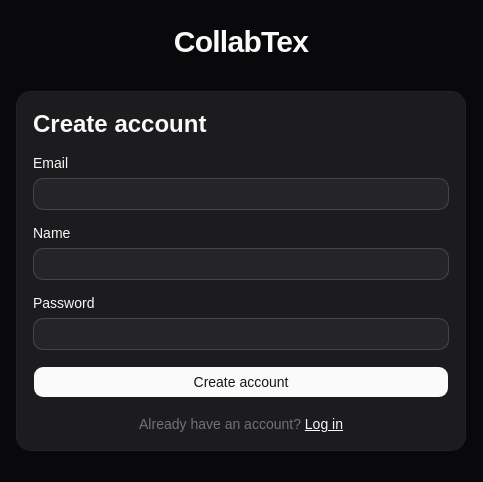
Test: RegisterPage › shows validation error for invalid email format
Type "notanemail" into the field labelled "Email". click: (241,194)
box: [33, 178, 449, 210]
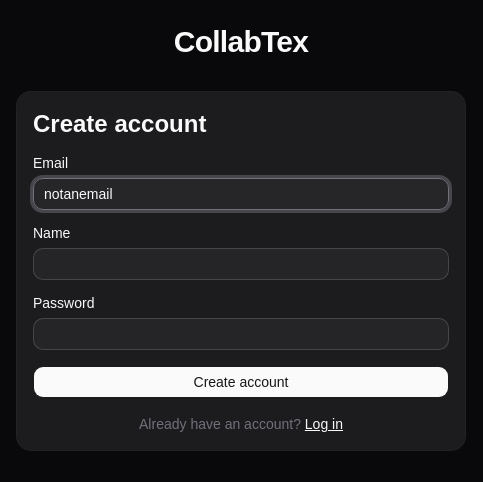
Type "Alice" into the field labelled "Name". click: (241,264)
box: [33, 248, 449, 280]
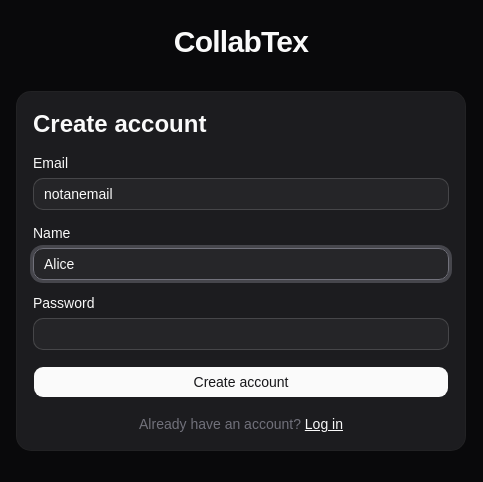
Type "pass123" into the password field labelled "Password". click: (241,334)
box: [33, 318, 449, 350]
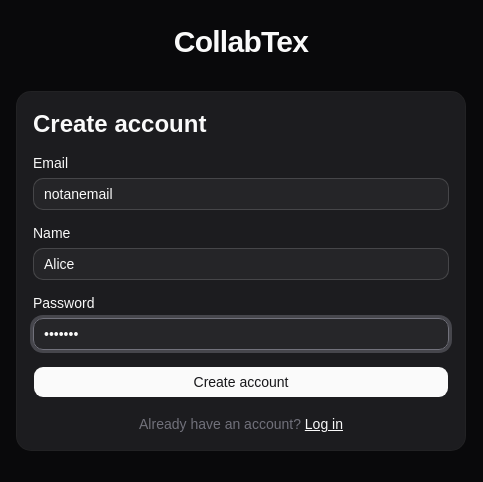
Click the button "Create account". click: (241,382)
box: [33, 366, 449, 398]
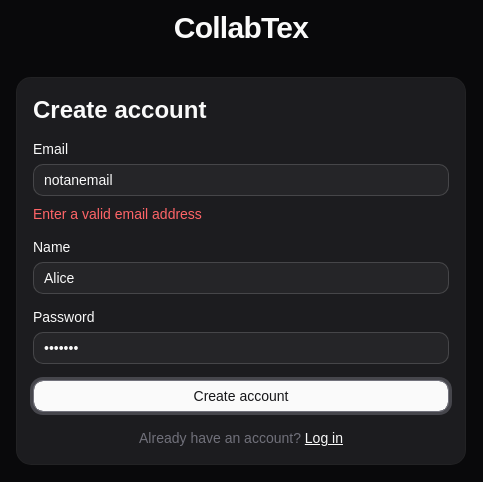
Check: the text "Enter a valid email address" is shown, box [33, 206, 202, 222]
